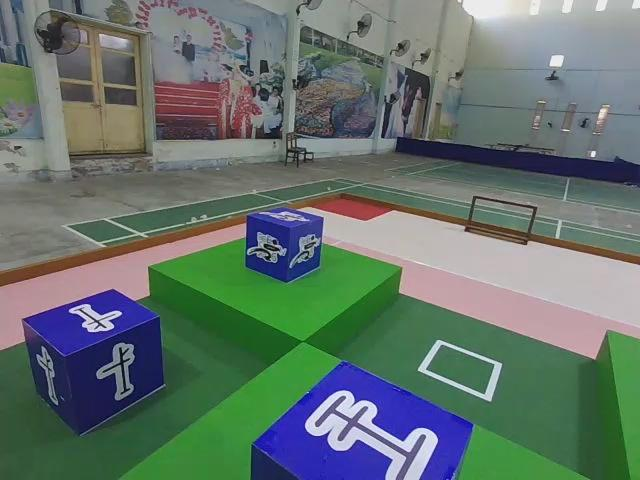R1 Blue: (245, 210, 327, 286)
R2 Fake Blue: (251, 362, 473, 480)
R2 Real Blue: (22, 290, 165, 437)
